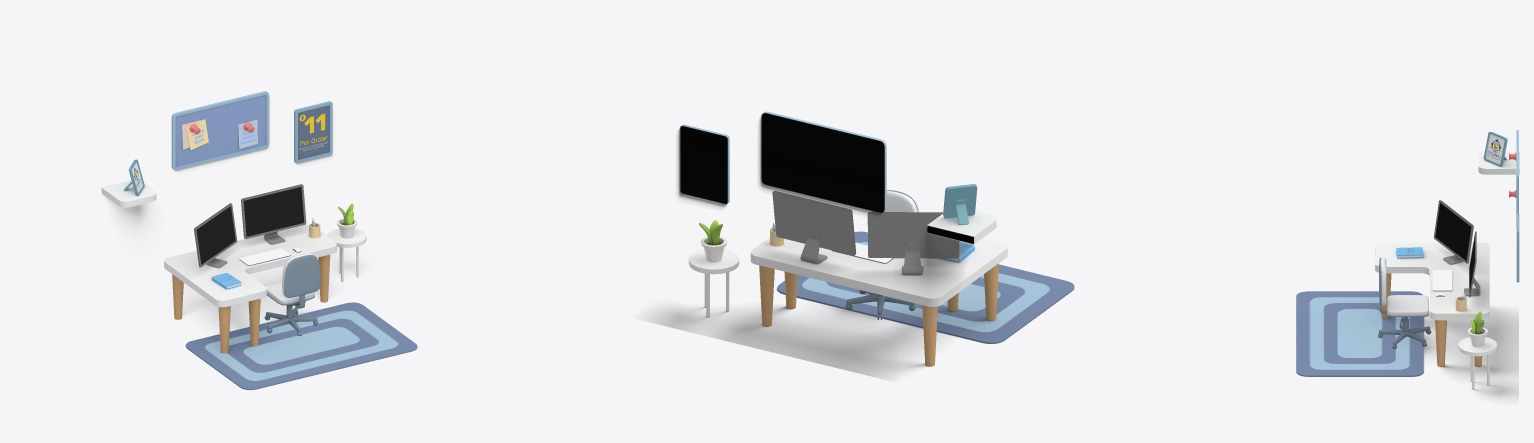
3 renders of one model, left to right at view 1: azimuth 30°, elevation 25°; view 2: azimuth 150°, elevation 25°; view 3: azimuth 270°, elevation 25°, orthographic. The views are drawn at different scales.
Parts seen in each view (by area): view 1: Static_Objects_baked, Static_Objects_baked.001, wall.001, ergonomic_chair.001, Logos_and_Text_Opt, screen_2, screen_1, monitor_shell; view 2: wall.001, Static_Objects_baked, monitor_shell, Static_Objects_baked.001, ergonomic_chair.001, Logos_and_Text_Opt; view 3: Static_Objects_baked, wall.001, ergonomic_chair.001, screen_1, Static_Objects_baked.001, Logos_and_Text_Opt, monitor_shell, key_board.
Boxes of the visible parts, box(x1,y1,x2,y2) form: Static_Objects_baked: box(164, 203, 417, 390); Static_Objects_baked.001: box(101, 91, 269, 207); wall.001: box(103, 109, 417, 347); ergonomic_chair.001: box(264, 253, 320, 336); Logos_and_Text_Opt: box(128, 101, 332, 195); screen_2: box(243, 187, 304, 236); screen_1: box(196, 206, 235, 264); monitor_shell: box(194, 184, 306, 267); wall.001: box(639, 113, 987, 380); Static_Objects_baked: box(688, 220, 1074, 366); monitor_shell: box(772, 191, 959, 258); Static_Objects_baked.001: box(762, 111, 996, 244); ergonomic_chair.001: box(845, 190, 918, 319); Logos_and_Text_Opt: box(680, 124, 977, 218); Static_Objects_baked: box(1296, 242, 1497, 389); wall.001: box(1296, 297, 1518, 399); ergonomic_chair.001: box(1378, 257, 1431, 349); screen_1: box(1435, 203, 1471, 260); Static_Objects_baked.001: box(1478, 130, 1519, 228); Logos_and_Text_Opt: box(1483, 132, 1519, 282); monitor_shell: box(1433, 200, 1476, 297); key_board: box(1432, 270, 1452, 291).
Bounding box in the file's own units: 5.61 × 3 × 3.
12 materials, 4 textured.
